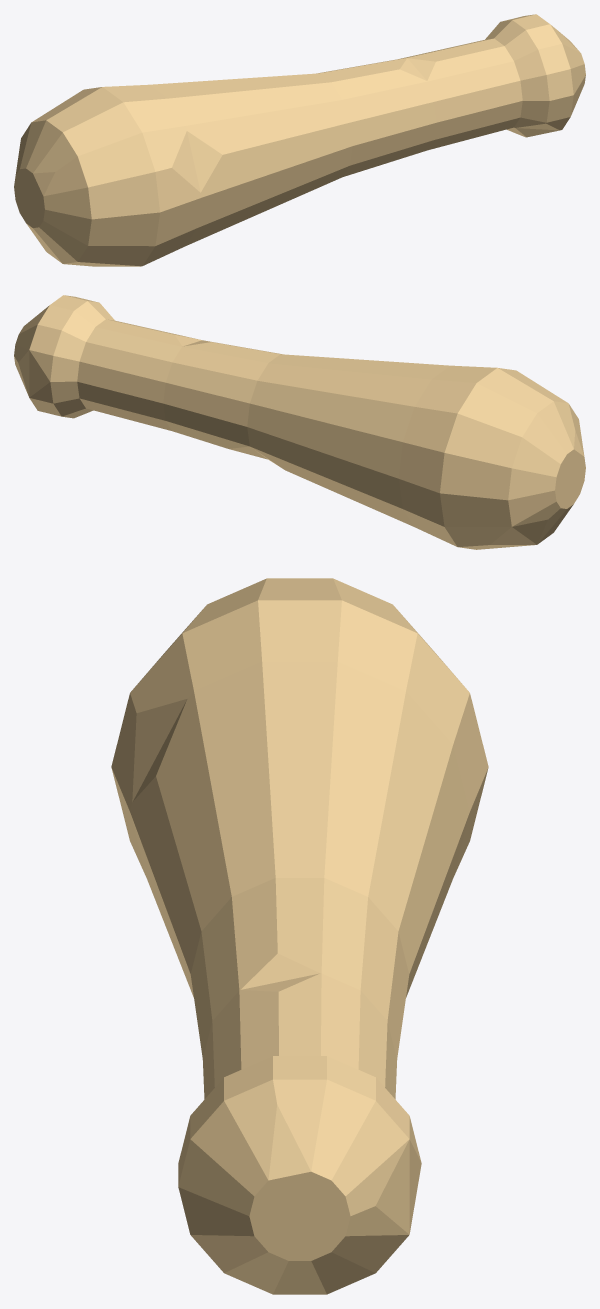
File: SFHW_Mortar_Stick.fbx
The picture shows the model from 3 angles, top to bottom: view 1: azimuth 30°, elevation 25°; view 2: azimuth 150°, elevation 25°; view 3: azimuth 270°, elevation 25°; orthographic projection. The views are drawn at different scales.
Parts seen in each view (by area): view 1: SFHW_Mortar_Stick; view 2: SFHW_Mortar_Stick; view 3: SFHW_Mortar_Stick.
Part boxes in pixels (x1,y1,x2,y2): SFHW_Mortar_Stick: (14, 14, 585, 266); SFHW_Mortar_Stick: (14, 295, 585, 549); SFHW_Mortar_Stick: (111, 578, 488, 1294).
Bounding box in the file's own units: 20.54 × 6.02 × 6.17.
